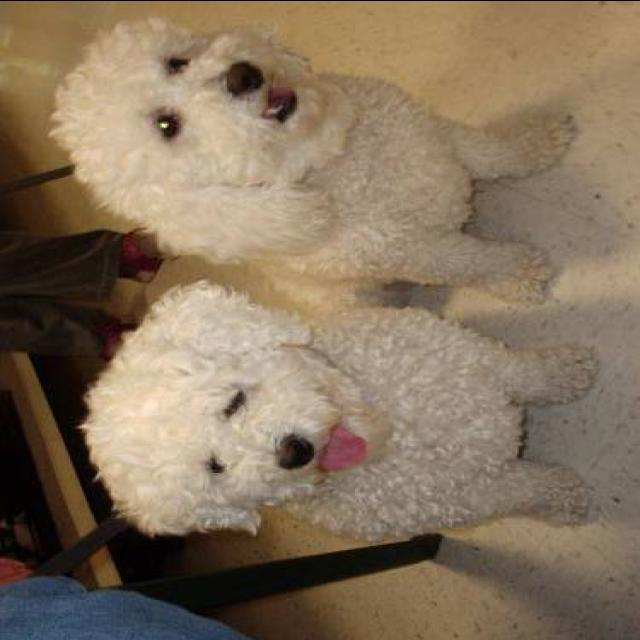dog: (51, 278, 619, 548)
